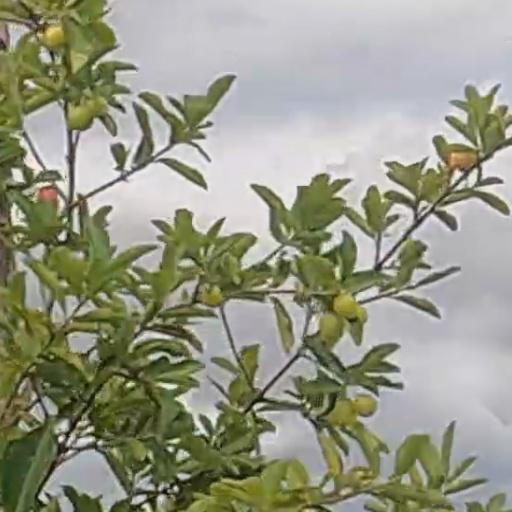acerola_verde: (69, 103, 92, 129), (353, 395, 376, 417), (336, 295, 357, 319)
acerola_vermelha: (40, 187, 59, 204)
